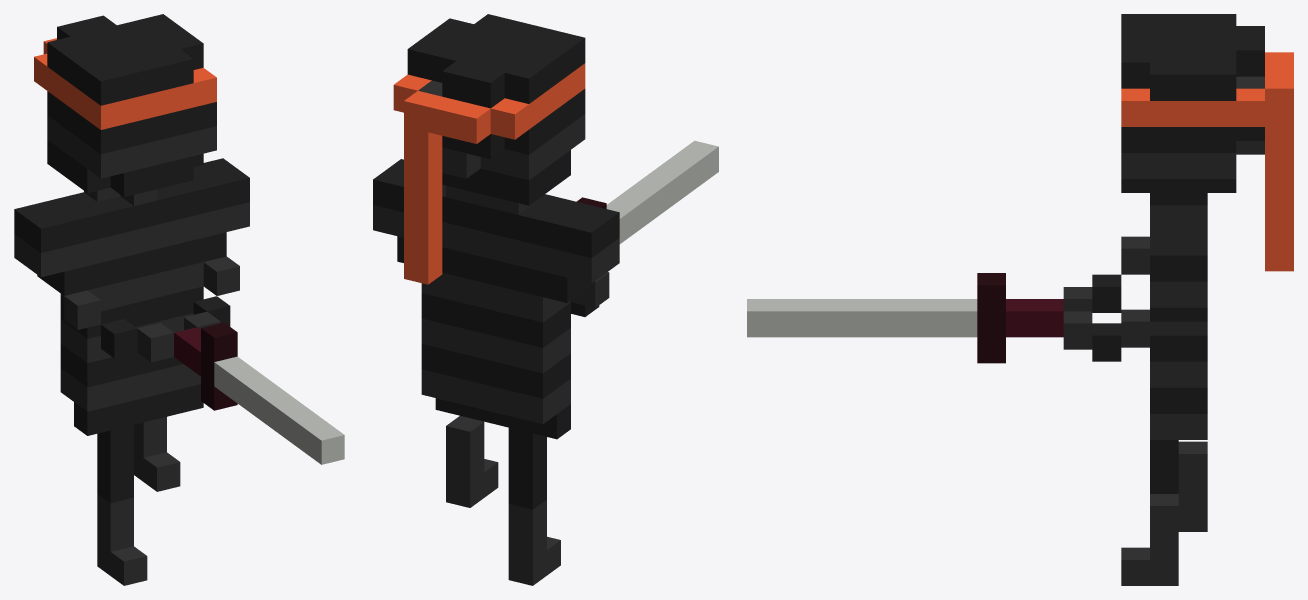
The model's file is SwingingNinjaCharater-4.obj.
3 views of the same model, side by side, from view 1: azimuth 30°, elevation 25°; view 2: azimuth 150°, elevation 25°; view 3: azimuth 270°, elevation 25° (orthographic). The views are drawn at different scales.
Parts seen in each view (by area): view 1: SwingingNinjaCharater-4; view 2: SwingingNinjaCharater-4; view 3: SwingingNinjaCharater-4.
Boxes of the visible parts, left/top/right/bottom form: SwingingNinjaCharater-4: left=14, top=14, right=344, bottom=585; SwingingNinjaCharater-4: left=373, top=14, right=718, bottom=585; SwingingNinjaCharater-4: left=747, top=14, right=1293, bottom=585.
Size of the model in its own units: 9 by 21 by 19.
Materials: 1 (1 with a texture image).
